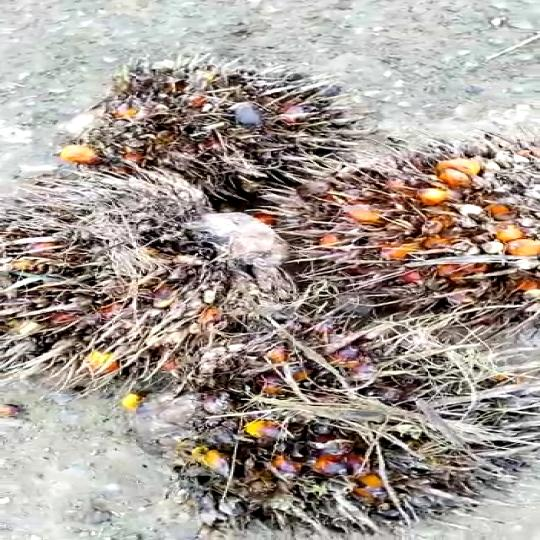terlalu masak: (0, 181, 290, 406), (180, 393, 519, 536), (68, 64, 378, 206)
